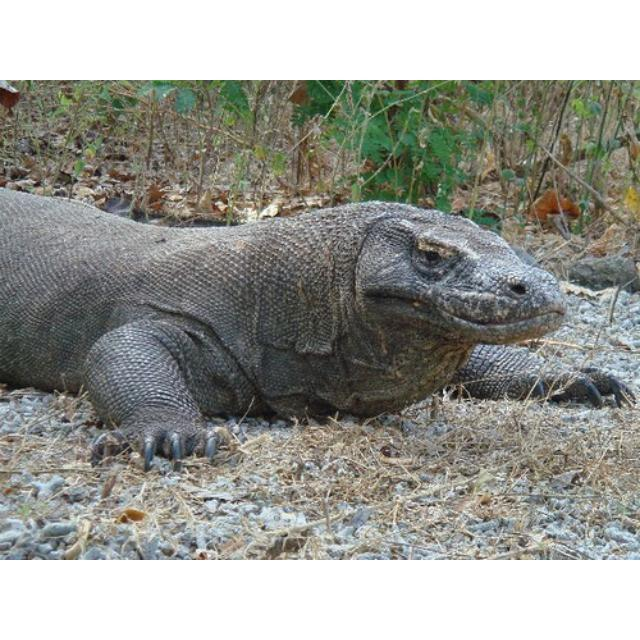KomodoDragon: (0, 185, 634, 471)
